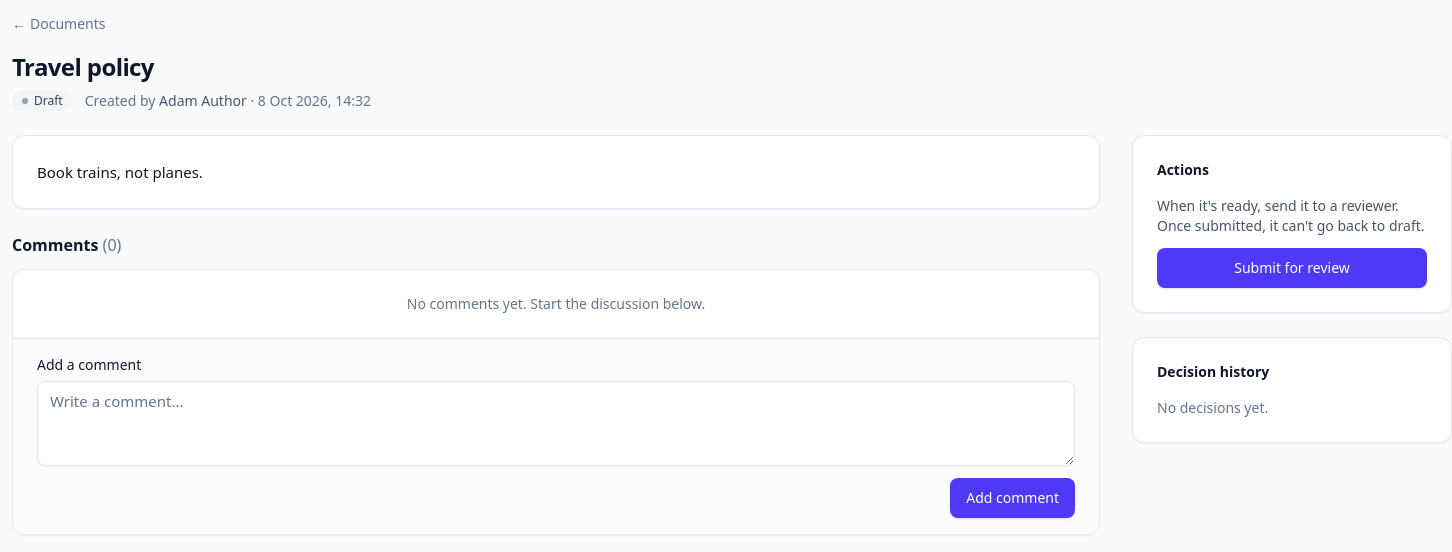
Test: DocumentDetailPage actions › submits the draft for review when the author clicks the button
This screenshot has width=1452, height=552.
Expected: the heading "Travel policy" is shown, [12,50,154,82]
Click the button "Submit for review" at (1292, 268), box [1157,248,1427,288]
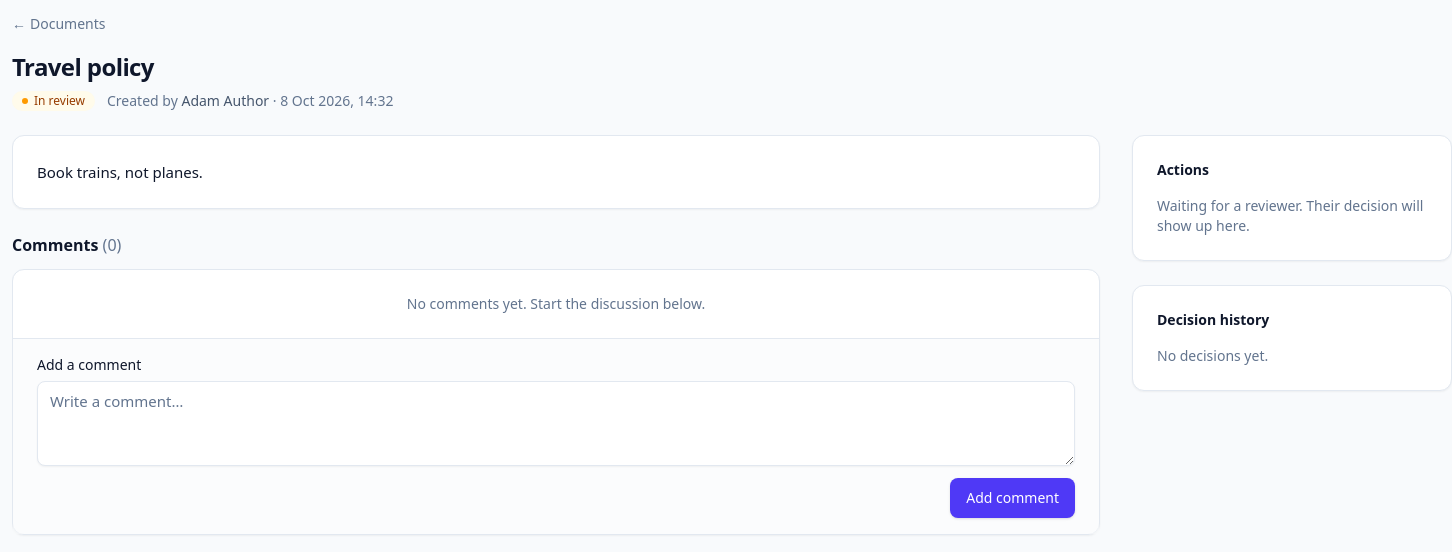
Expected: the text "Waiting for a reviewer. Their decision will show up here." is shown, [1157,196,1427,236]
Expected: the button "Submit for review" is gone
